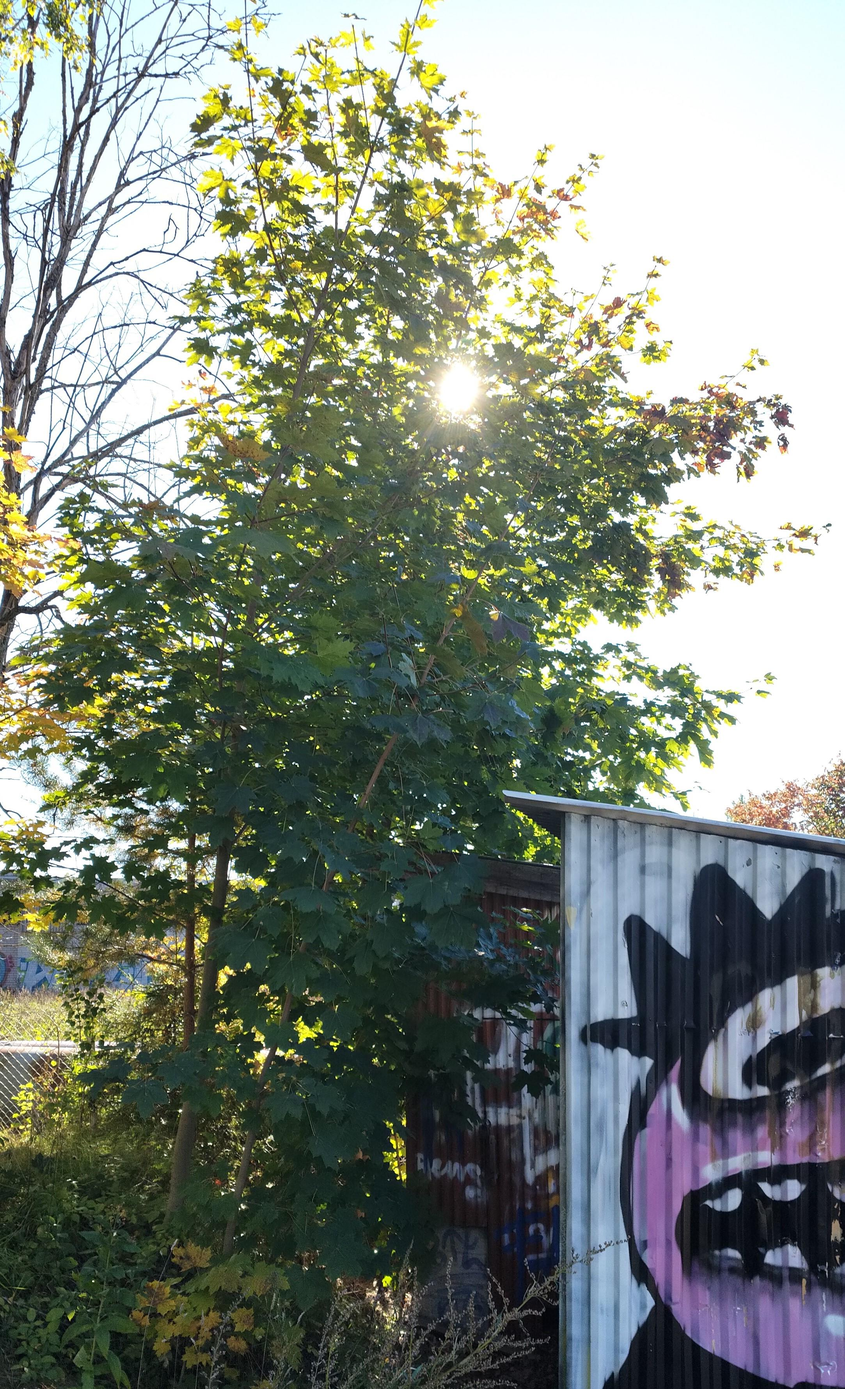Maple: (32, 153, 561, 1358), (70, 0, 831, 794)
